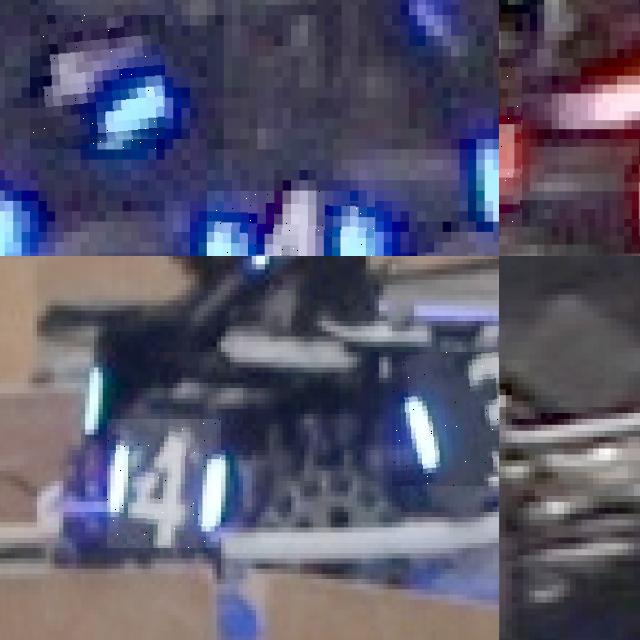B3: (391, 352, 499, 486)
B4: (30, 15, 165, 149), (107, 419, 221, 548), (206, 190, 375, 256)
